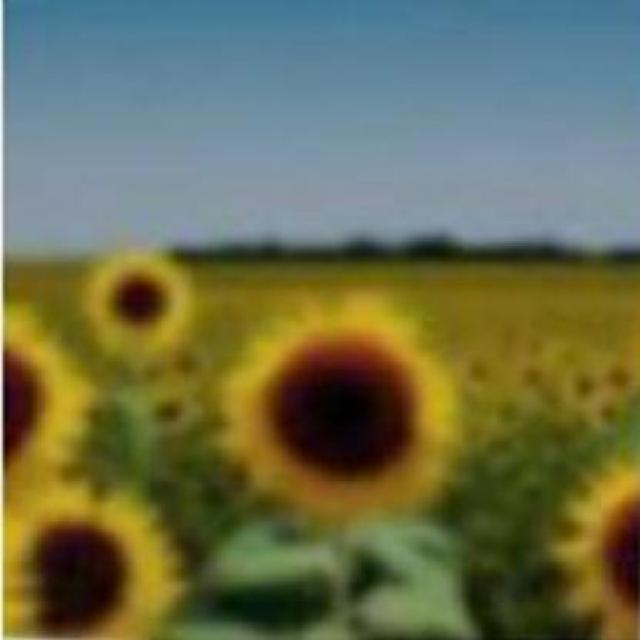sunflower: (218, 295, 460, 527), (6, 485, 175, 640), (81, 246, 196, 362)
